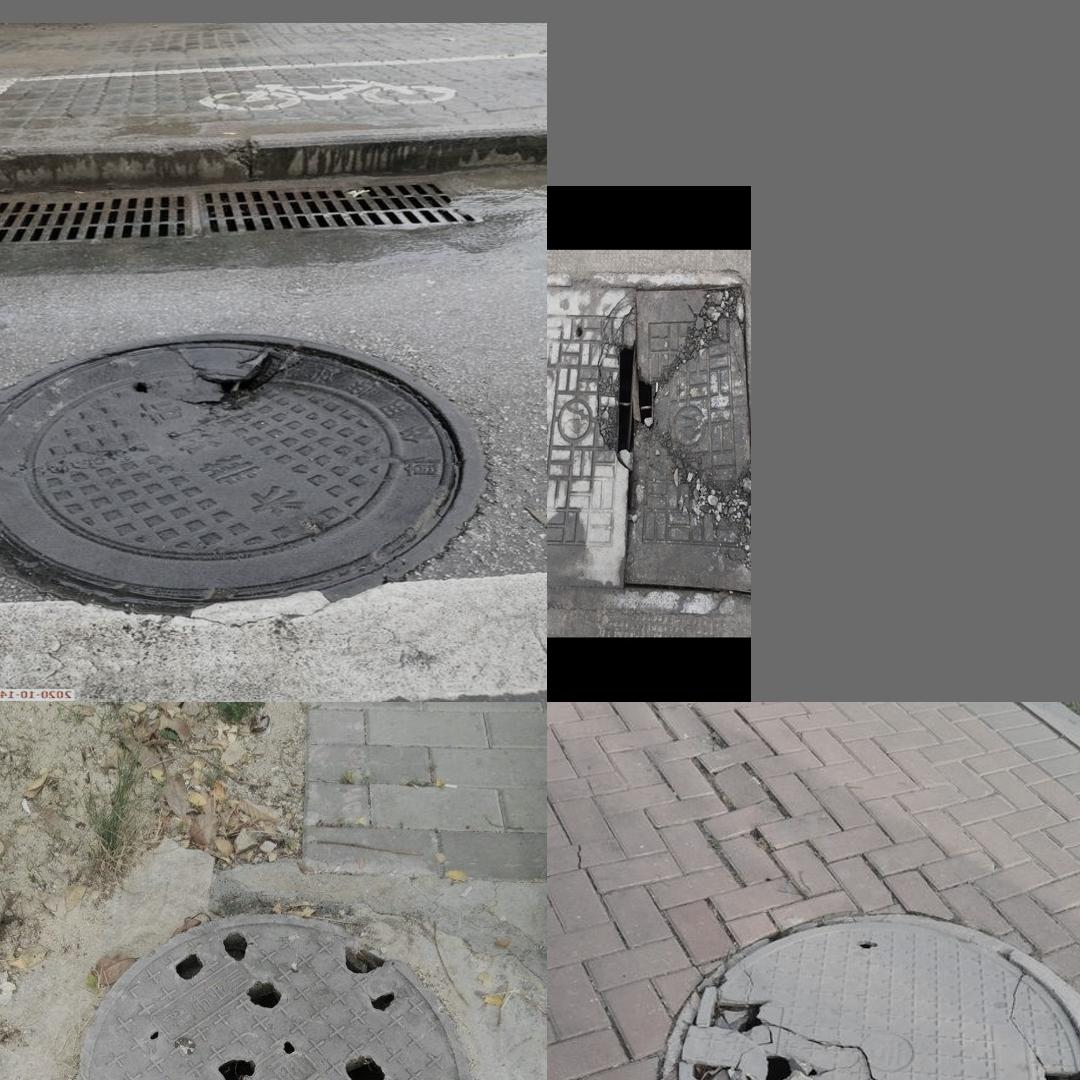broke: (0, 319, 500, 632), (624, 888, 1080, 1080), (549, 269, 750, 621), (74, 912, 473, 1080)
